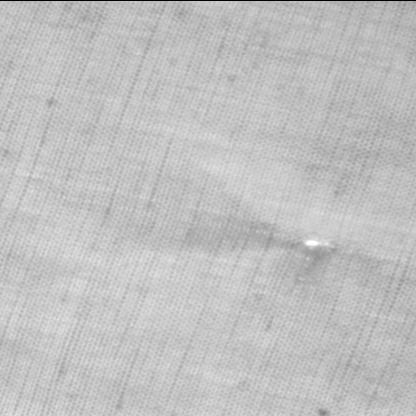hole: (300, 235, 338, 250)
